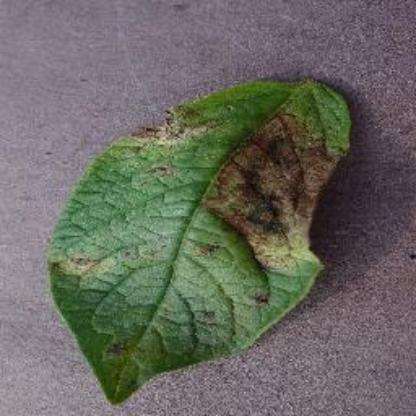Late-Blight: (44, 58, 366, 408)
